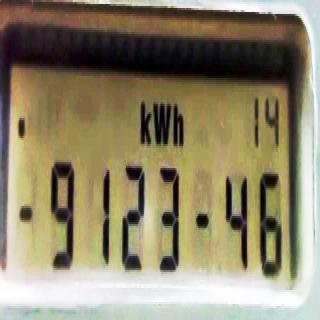-: (194, 206, 210, 242), (20, 196, 32, 232), (17, 112, 27, 140)
1: (101, 161, 111, 271), (253, 89, 260, 155)
2: (119, 158, 146, 278)
3: (156, 151, 180, 283)
4: (223, 164, 252, 282), (264, 89, 281, 156)
6: (259, 164, 283, 287)
9: (48, 153, 76, 284)
